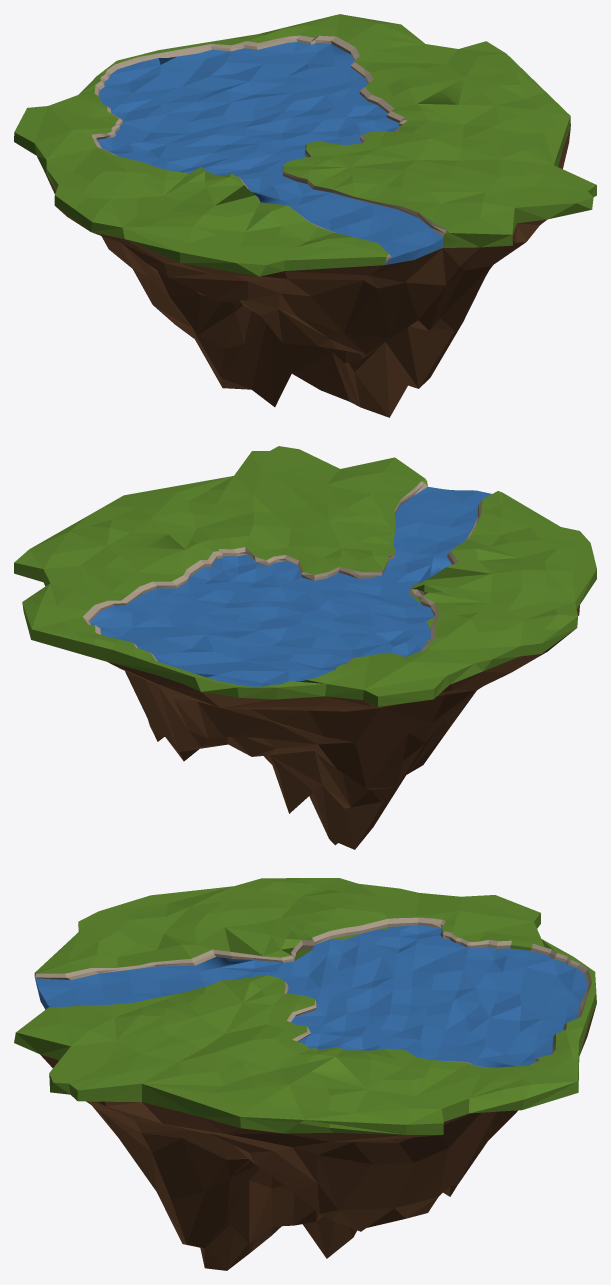
Rendered from land005.gltf.
3 views of the same model, one above another, from view 1: azimuth 30°, elevation 25°; view 2: azimuth 150°, elevation 25°; view 3: azimuth 270°, elevation 25° (orthographic). The views are drawn at different scales.
Visible parts, largest first — view 1: node_land005_-79126; view 2: node_land005_-79126; view 3: node_land005_-79126.
Boxes of the visible parts, bbox=[...] form: node_land005_-79126: bbox=[14, 14, 596, 417]; node_land005_-79126: bbox=[14, 446, 596, 849]; node_land005_-79126: bbox=[14, 878, 596, 1270].
Bounding box in the file's own units: 0.3637 × 0.1916 × 0.363.
1 material, 1 textured.
